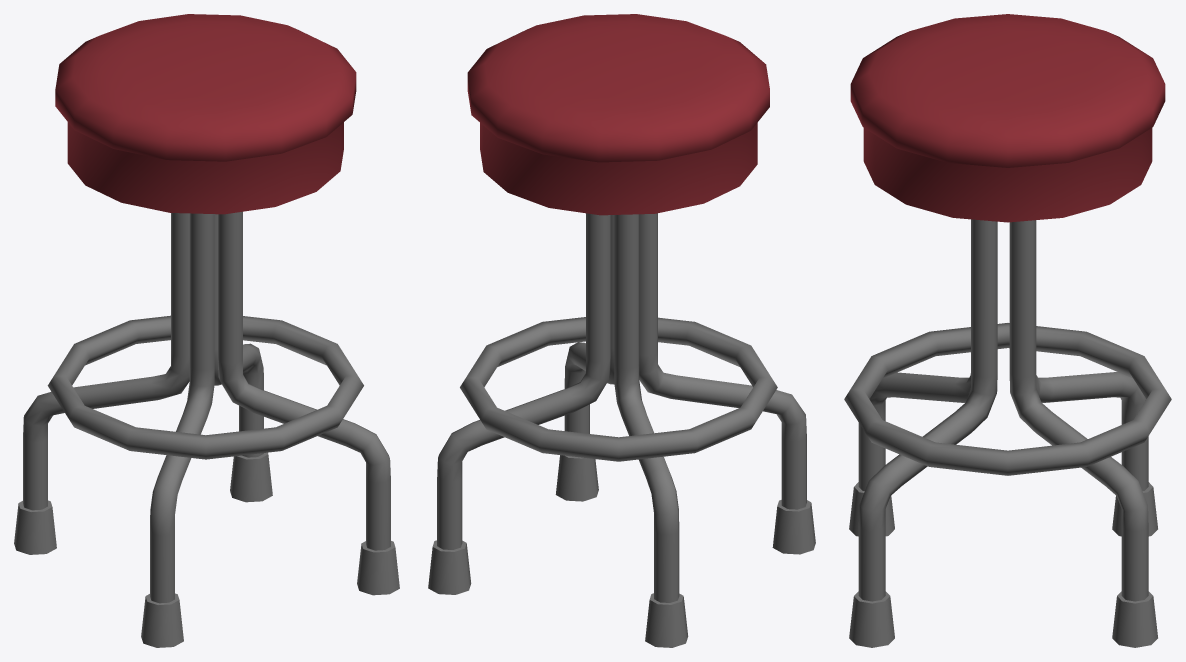
The model's file is Stool.fbx.
3 views of the same model, side by side, from view 1: azimuth 30°, elevation 25°; view 2: azimuth 150°, elevation 25°; view 3: azimuth 270°, elevation 25° (orthographic). The views are drawn at different scales.
Parts seen in each view (by area): view 1: pTorus3; view 2: pTorus3; view 3: pTorus3.
Boxes of the visible parts, x1,y1,x2,y2 form: pTorus3: [14, 14, 399, 647]; pTorus3: [428, 14, 815, 647]; pTorus3: [844, 14, 1171, 647].
Size of the model in its own units: 40.24 by 70.57 by 40.24.
